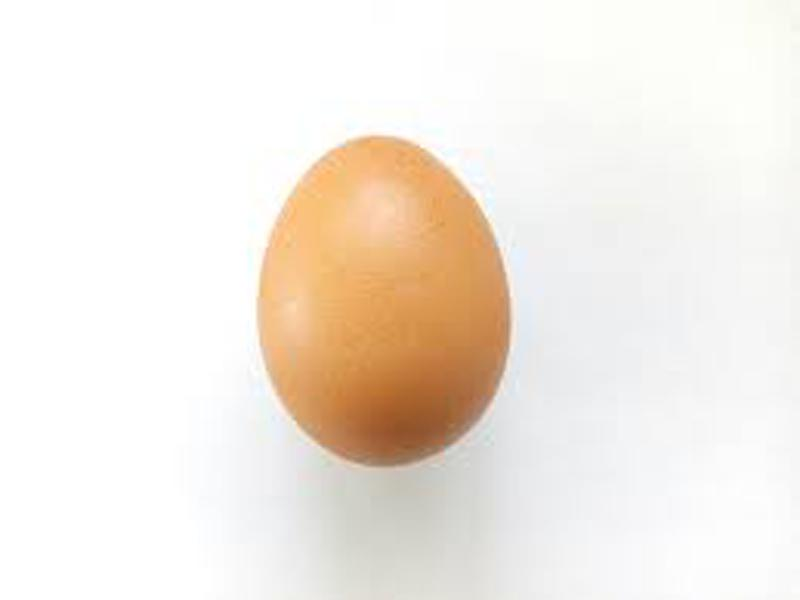Eggs: (259, 130, 513, 470)
